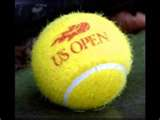tennis ball: (29, 10, 136, 111)
